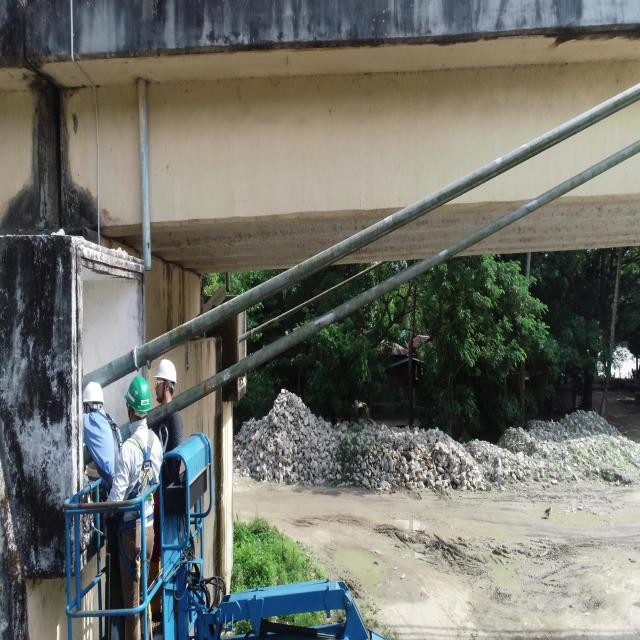corrosion: (203, 382, 207, 396), (208, 382, 212, 392), (165, 408, 168, 415), (298, 264, 300, 268)
